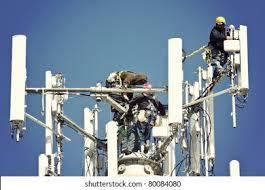antenna: (164, 35, 185, 123), (10, 34, 31, 121), (236, 24, 255, 97), (101, 121, 123, 176), (228, 154, 242, 177)
